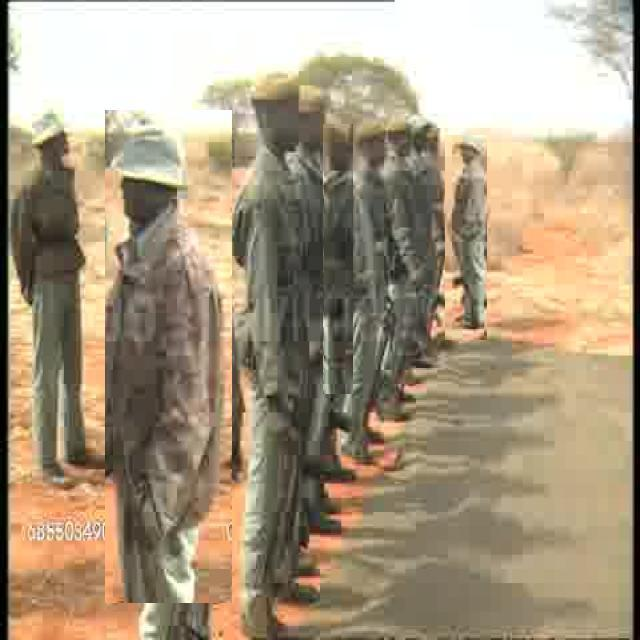poacher: (105, 110, 232, 603), (8, 101, 108, 478), (236, 67, 303, 614), (352, 113, 395, 460), (298, 69, 332, 471), (445, 135, 487, 340), (323, 124, 353, 394)
